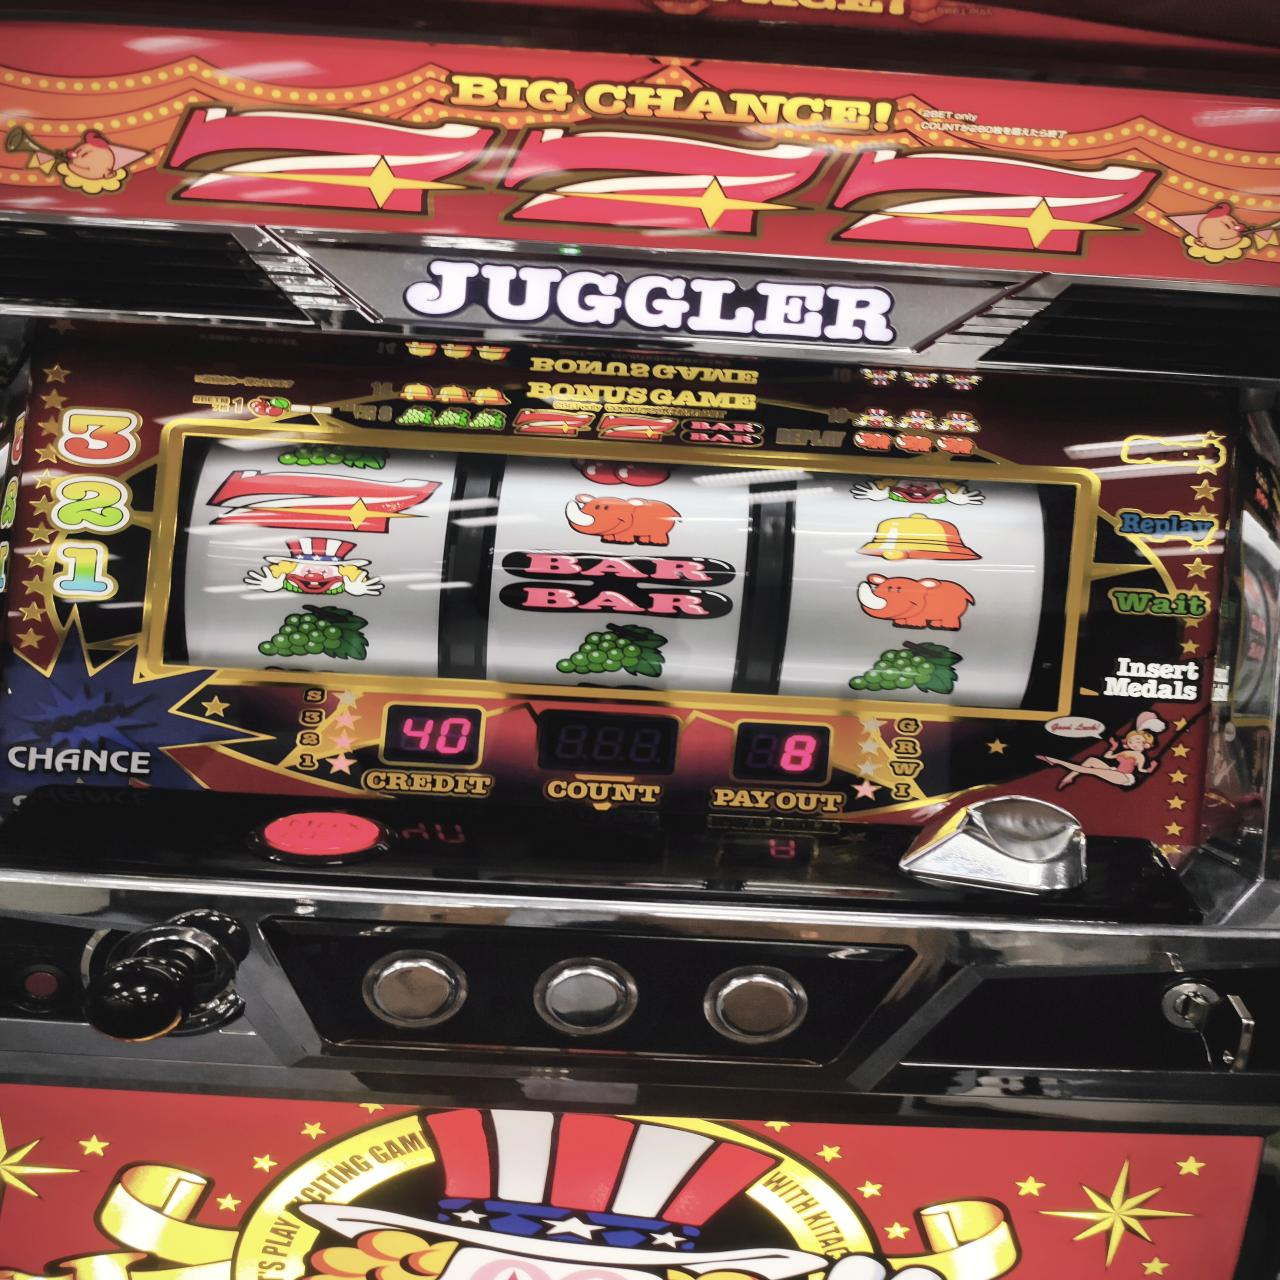7: (207, 469, 434, 532)
8: (850, 572, 978, 632), (561, 493, 689, 547)
Display: (176, 429, 1077, 723)
bar: (498, 549, 733, 620)
bell: (857, 511, 981, 561)
clown: (237, 535, 390, 601)
grape: (251, 604, 370, 660), (845, 641, 967, 695), (558, 622, 667, 678)
